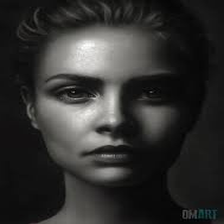no_mask: (38, 39, 184, 184)
